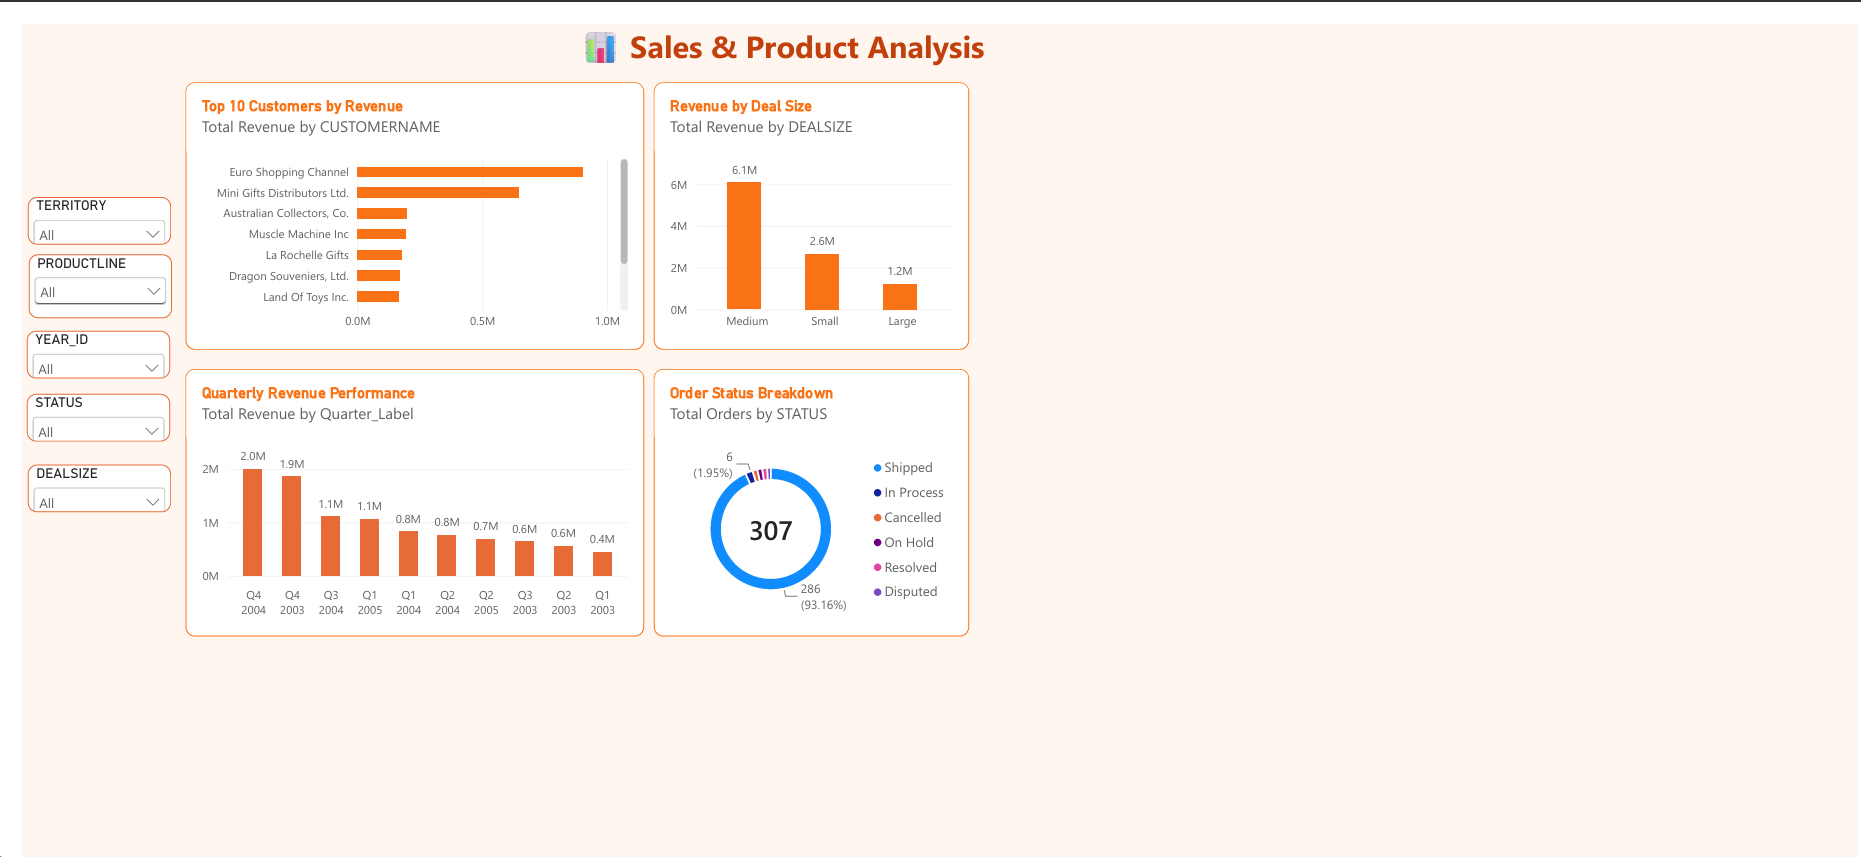

The page's visual inventory and layout, read from the dashboard file:
{"tool":"powerbi","page":{"name":"Sales Analysis","canvas":[1920,1080],"ordinal":1},"visuals":[{"type":"textbox","box":[0,0,1618.6,65.7],"z":0},{"type":"clusteredBarChart","title":"Top 10 Customers by Revenue","fields":{"Category":["cleaned_data.CUSTOMERNAME"],"Y":["cleaned_data.Total Revenue"]},"box":[170,60,480,280],"z":1},{"type":"clusteredColumnChart","title":"Revenue by Deal Size","fields":{"Category":["cleaned_data.DEALSIZE"],"Y":["cleaned_data.Total Revenue"]},"box":[660,60,330,280],"z":2},{"type":"clusteredColumnChart","title":"Quarterly Revenue Performance","fields":{"Category":["cleaned_data.Quarter_Label"],"Y":["cleaned_data.Total Revenue"]},"box":[170,360,480,280],"z":3},{"type":"donutChart","title":"Order Status Breakdown","fields":{"Category":["cleaned_data.STATUS"],"Y":["cleaned_data.Total Orders"]},"box":[660,360,330,280],"z":4},{"type":"slicer","fields":{"Values":["cleaned_data.TERRITORY"]},"box":[5,180,150,50],"z":5},{"type":"slicer","fields":{"Values":["cleaned_data.PRODUCTLINE"]},"box":[5.7,240,150,67.1],"z":6},{"type":"slicer","fields":{"Values":["cleaned_data.YEAR_ID"]},"box":[4.3,320,150,50],"z":7},{"type":"slicer","fields":{"Values":["cleaned_data.STATUS"]},"box":[4.3,385.7,150,50],"z":8},{"type":"slicer","fields":{"Values":["cleaned_data.DEALSIZE"]},"box":[5,460,150,50],"z":9}]}

Visuals, with their boxes on the page's 1920x1080 design canvas (x1, y1, x2, y2). These are canvas units, not pixel positions in the 1861x857 screenshot, which may show the page scaled, cropped or inside an application window:
textbox: (0,0,1619,66)
"Top 10 Customers by Revenue" clusteredBarChart: (170,60,650,340)
"Revenue by Deal Size" clusteredColumnChart: (660,60,990,340)
"Quarterly Revenue Performance" clusteredColumnChart: (170,360,650,640)
"Order Status Breakdown" donutChart: (660,360,990,640)
slicer - cleaned_data.TERRITORY: (5,180,155,230)
slicer - cleaned_data.PRODUCTLINE: (6,240,156,307)
slicer - cleaned_data.YEAR_ID: (4,320,154,370)
slicer - cleaned_data.STATUS: (4,386,154,436)
slicer - cleaned_data.DEALSIZE: (5,460,155,510)
